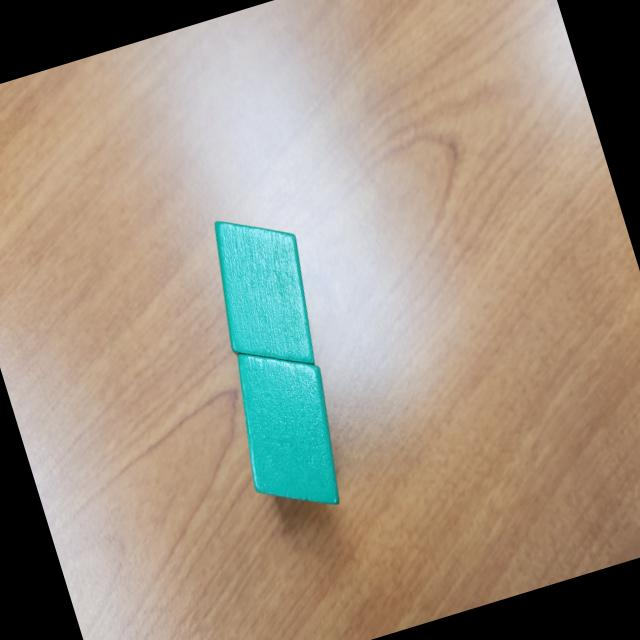green: (214, 330, 363, 528), (192, 198, 334, 386)
